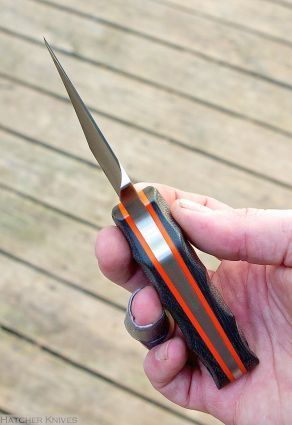knife: (40, 31, 265, 398)
